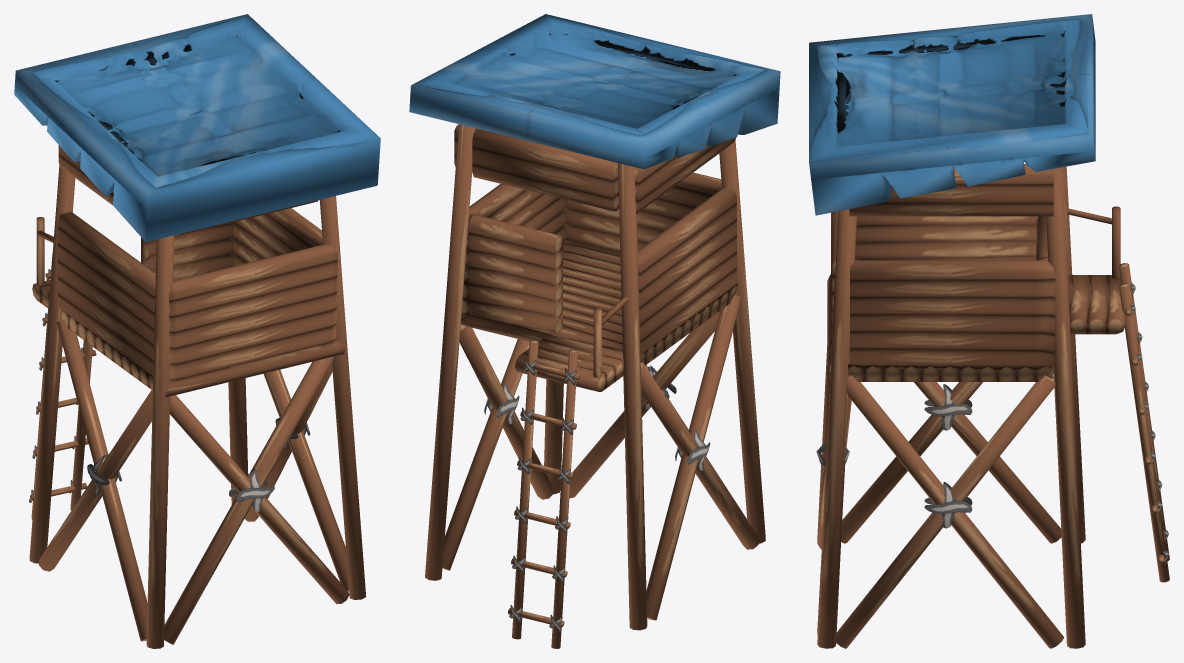
The model's file is mirador.fbx.
The picture shows the model from 3 angles, left to right: view 1: azimuth 30°, elevation 25°; view 2: azimuth 150°, elevation 25°; view 3: azimuth 270°, elevation 25°; orthographic projection. The views are drawn at different scales.
Visible parts, largest first — view 1: mirador, miradorladder; view 2: mirador, miradorladder; view 3: mirador, miradorladder.
Boxes of the visible parts, box(x1,y1,x2,y2) form: mirador: box(14, 14, 380, 648); miradorladder: box(29, 254, 96, 519); mirador: box(409, 14, 780, 630); miradorladder: box(508, 340, 579, 648); mirador: box(809, 14, 1125, 648); miradorladder: box(1119, 263, 1169, 582).
Size of the model in its own units: 200 by 404 by 253.
1 material, 1 textured.
